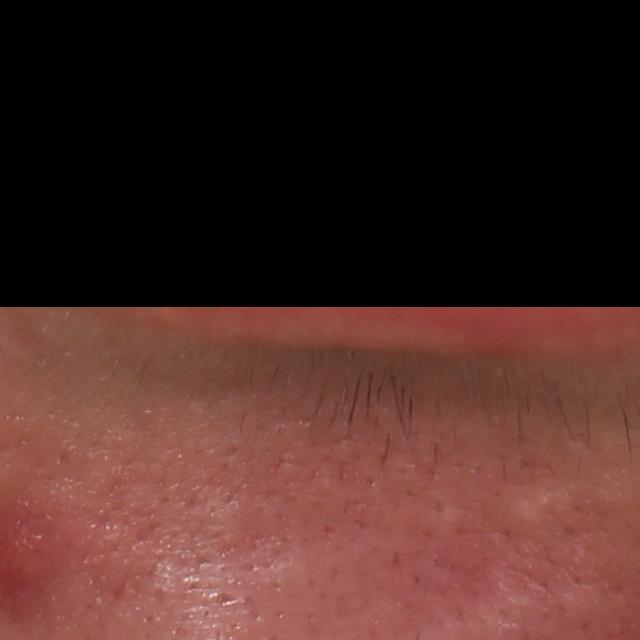hypertrophic_scar: (470, 473, 579, 533)
